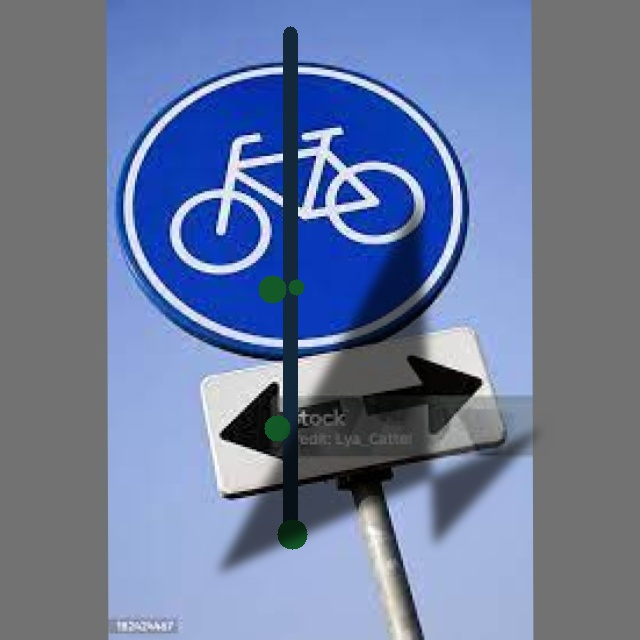Compulsory_Cycle_Track: (123, 62, 474, 322)
